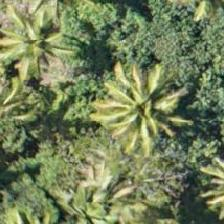coconut_tree: (107, 62, 197, 152), (89, 53, 179, 143), (0, 0, 77, 85), (158, 0, 223, 45)
